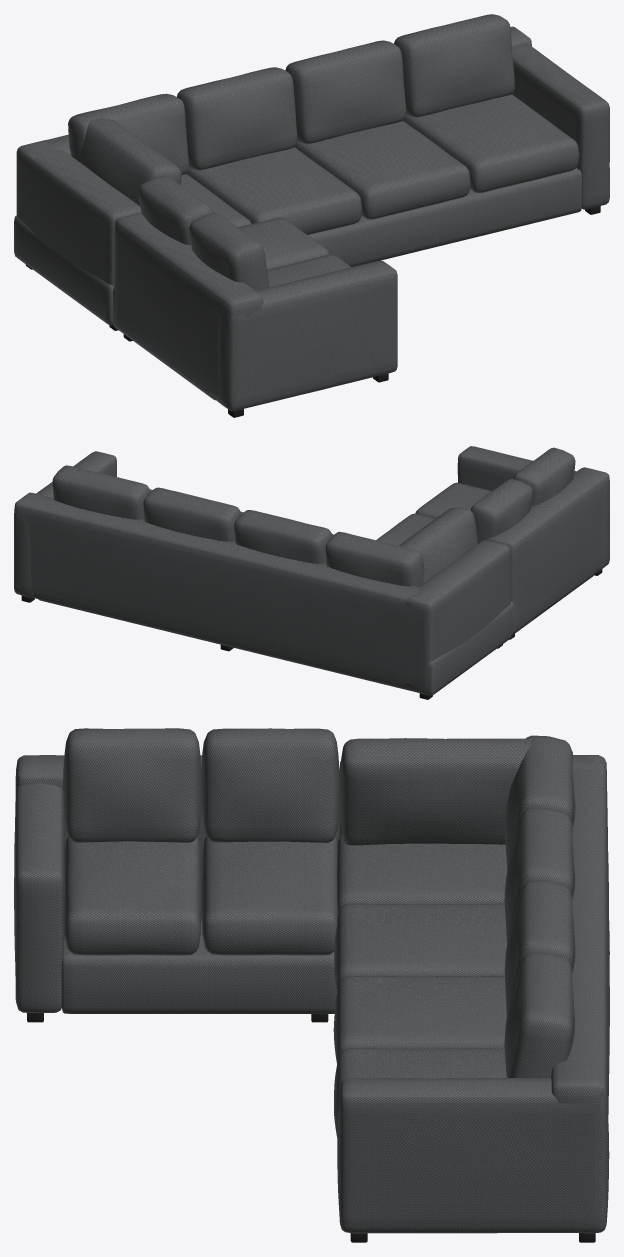
The model's file is sofa_rinconera_izquierda.glb.
3 views of the same model, one above another, from view 1: azimuth 30°, elevation 25°; view 2: azimuth 150°, elevation 25°; view 3: azimuth 270°, elevation 25° (orthographic). The views are drawn at different scales.
Visible parts, largest first — view 1: sofa_rinconera_izquierda; view 2: sofa_rinconera_izquierda; view 3: sofa_rinconera_izquierda.
Boxes of the visible parts, left/top/right/bottom form: sofa_rinconera_izquierda: left=14, top=14, right=609, bottom=417; sofa_rinconera_izquierda: left=14, top=446, right=609, bottom=699; sofa_rinconera_izquierda: left=14, top=728, right=609, bottom=1242.
Bounding box in the file's own units: 2.82 × 0.8278 × 2.12.
Materials: 2 (1 with a texture image).
